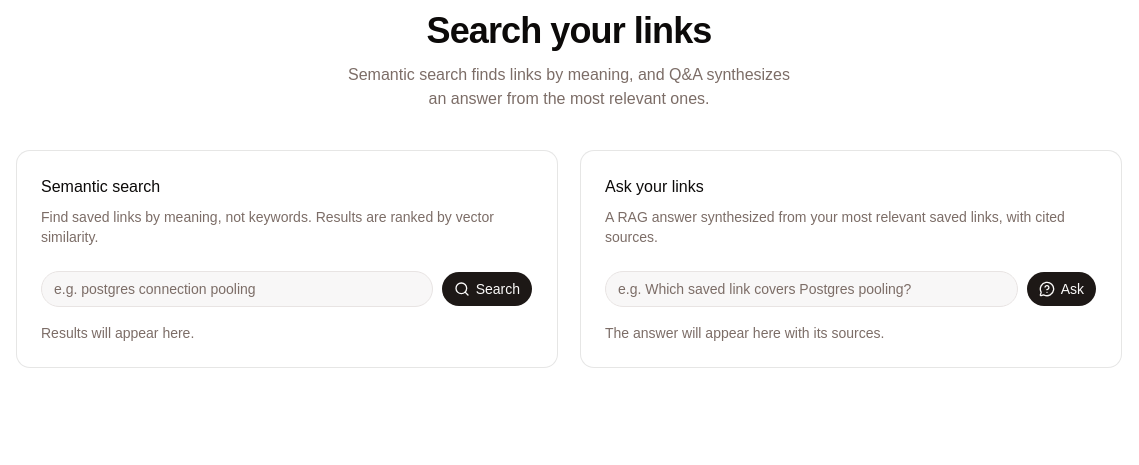
Test: Search › asks and renders the answer with cited sources
This screenshot has width=1139, height=465.
Type "pooling?" into the field named "Question".
click(811, 289); type("pooling?")  # box [605,271,1018,307]
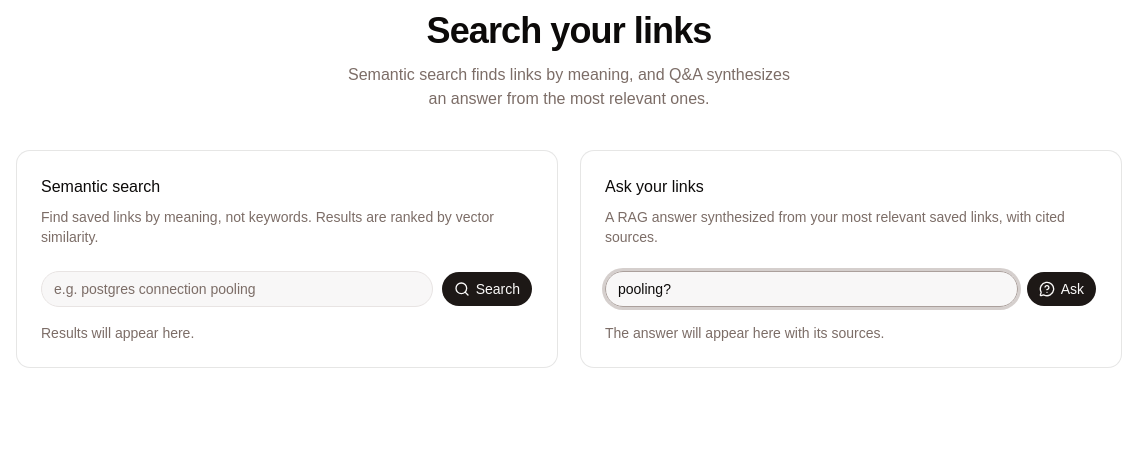
Click the button "Ask".
click(1061, 289)  # box [1026,271,1097,307]
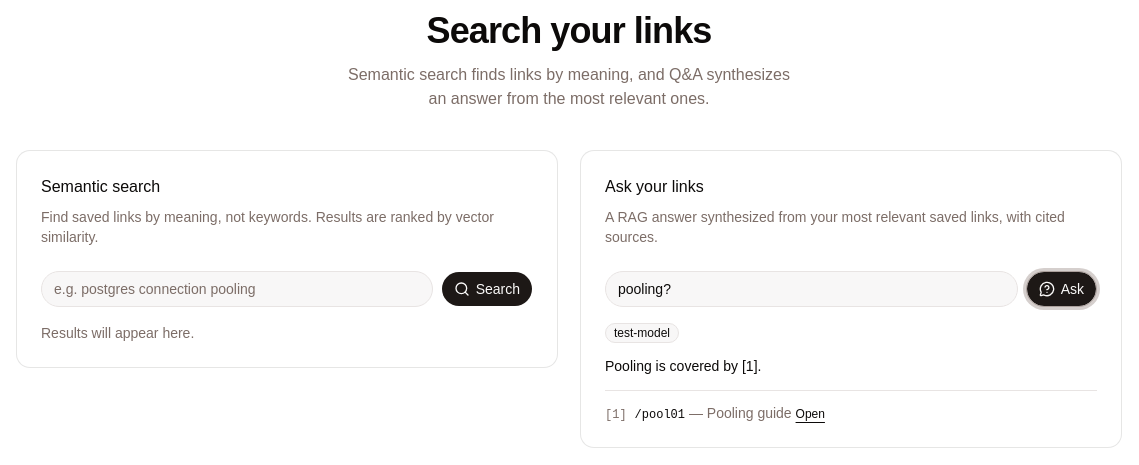
Now the text "Pooling is covered by [1]." is shown, box [605,358,761,374]
Now the text "test-model" is shown, box [605,323,679,343]
Now the text "/pool01" is shown, box [635,408,685,422]
